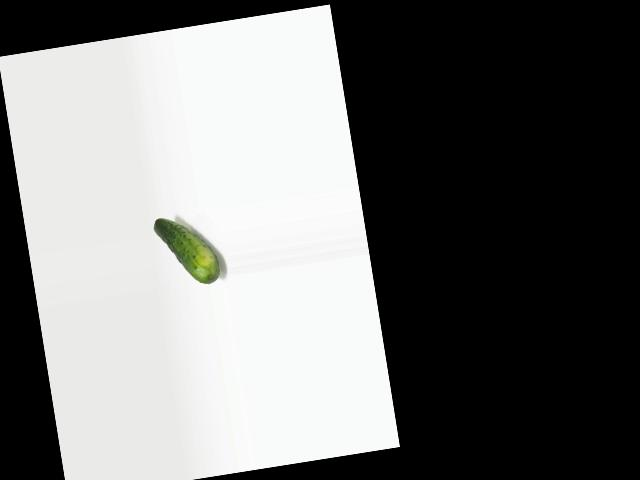cucumber: (152, 210, 221, 290)
